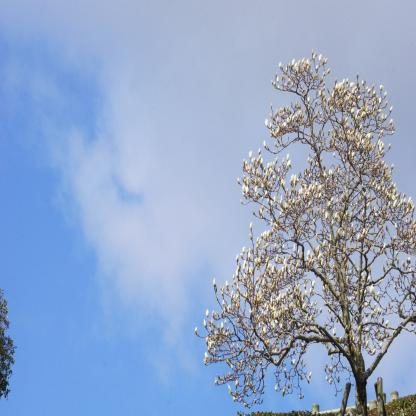Mokuren: (194, 49, 416, 416)
